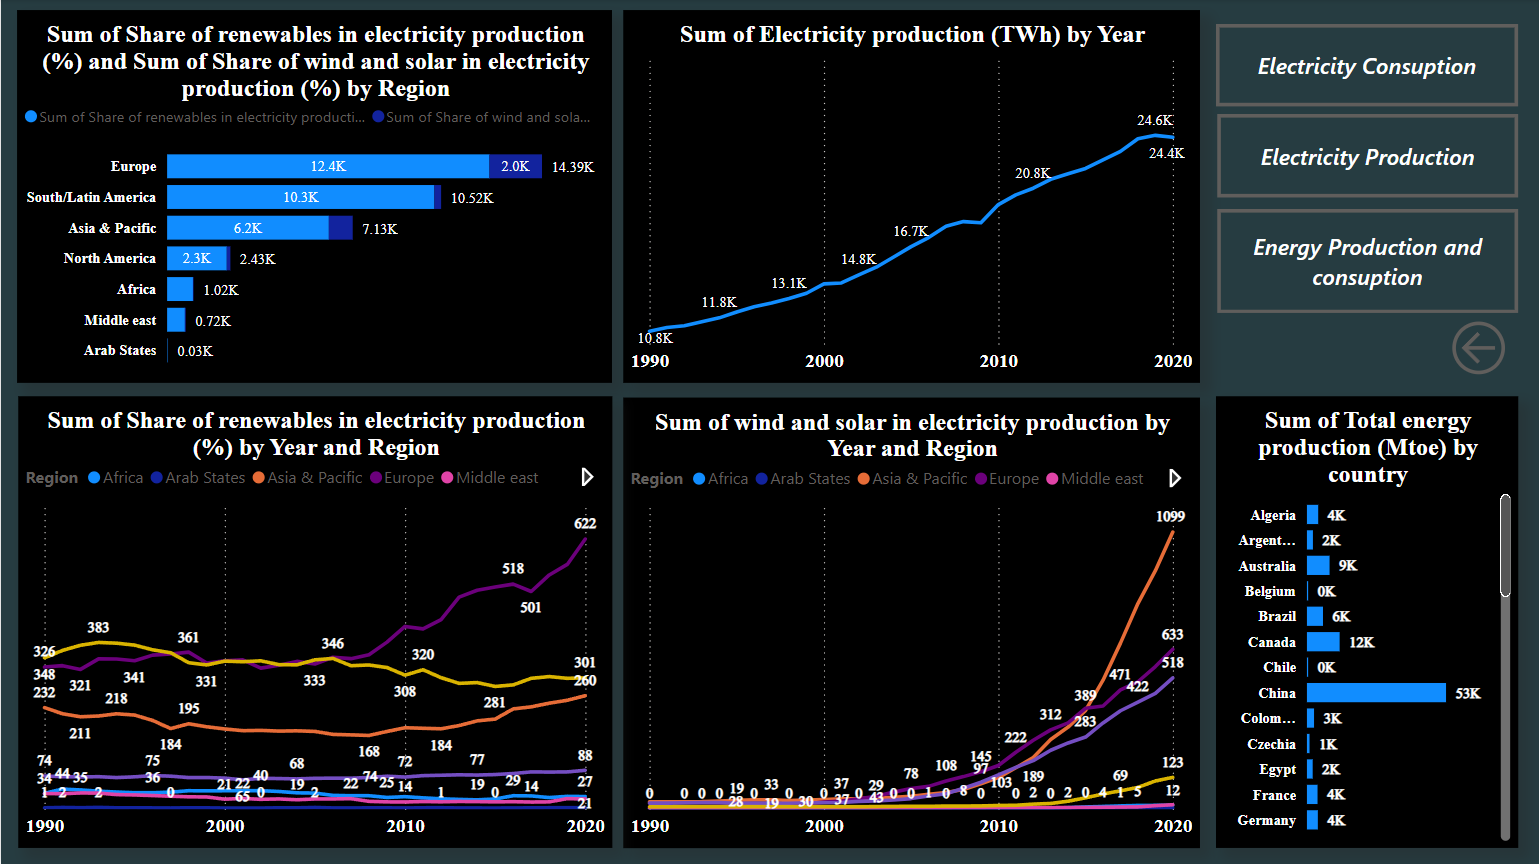

Layout of this report page (visuals, bound fields, positions):
{"tool":"powerbi","page":{"name":"Electricity","canvas":[1280,720],"ordinal":3},"visuals":[{"type":"barChart","fields":{"Category":["Energy data 1990-2020.Region"],"Y":["Sum(Energy data 1990-2020.Share of renewables in electricity production (%))","Sum(Energy data 1990-2020.Share of wind and solar in electricity production (%))"]},"box":[13.5,9.4,494.7,309.7],"z":0},{"type":"lineChart","fields":{"Category":["Energy data 1990-2020.Year"],"Y":["Sum(Energy data 1990-2020.Electricity production (TWh))"]},"box":[517.6,9.4,479.1,309.7],"z":1000},{"type":"lineChart","fields":{"Y":["Sum(Energy data 1990-2020.wind and solar in electricity production)"],"Category":["Energy data 1990-2020.Year"],"Series":["Energy data 1990-2020.Region"]},"box":[517.6,331.5,479.1,374.1],"z":3000},{"type":"lineChart","fields":{"Category":["Energy data 1990-2020.Year"],"Series":["Energy data 1990-2020.Region"],"Y":["Sum(Energy data 1990-2020.Share of renewables in electricity production (%))"]},"box":[14.5,330.5,493.7,375.2],"z":4000},{"type":"actionButton","box":[1010.1,20.7,251.2,68.5],"z":5000},{"type":"actionButton","box":[1010.8,95.4,250.2,69.4],"z":6000},{"type":"barChart","fields":{"Category":["Energy data 1990-2020.country"],"Y":["Sum(Energy data 1990-2020.Total energy production (Mtoe))"]},"box":[1010.5,330.2,251.2,375.6],"z":7000},{"type":"actionButton","box":[1010.8,175,250.2,86.8],"z":9000},{"type":"actionButton","box":[1200.2,261.7,60.7,56.4],"z":10000}]}

Visuals, with their boxes in screenshot pixels (x1, y1, x2, y2), scaled from the page's 1280x720 canvas onto the 1539x864 screenshot:
barChart - Energy data 1990-2020.Region x Sum(Energy data 1990-2020.Share of renewables in electricity production (%)): crop(16, 11, 611, 383)
lineChart - Energy data 1990-2020.Year x Sum(Energy data 1990-2020.Electricity production (TWh)): crop(622, 11, 1198, 383)
lineChart - Sum(Energy data 1990-2020.wind and solar in electricity production) x Energy data 1990-2020.Year: crop(622, 398, 1198, 847)
lineChart - Energy data 1990-2020.Year x Energy data 1990-2020.Region: crop(17, 397, 611, 847)
actionButton: crop(1214, 25, 1517, 107)
actionButton: crop(1215, 114, 1516, 198)
barChart - Energy data 1990-2020.country x Sum(Energy data 1990-2020.Total energy production (Mtoe)): crop(1215, 396, 1517, 847)
actionButton: crop(1215, 210, 1516, 314)
actionButton: crop(1443, 314, 1516, 382)
